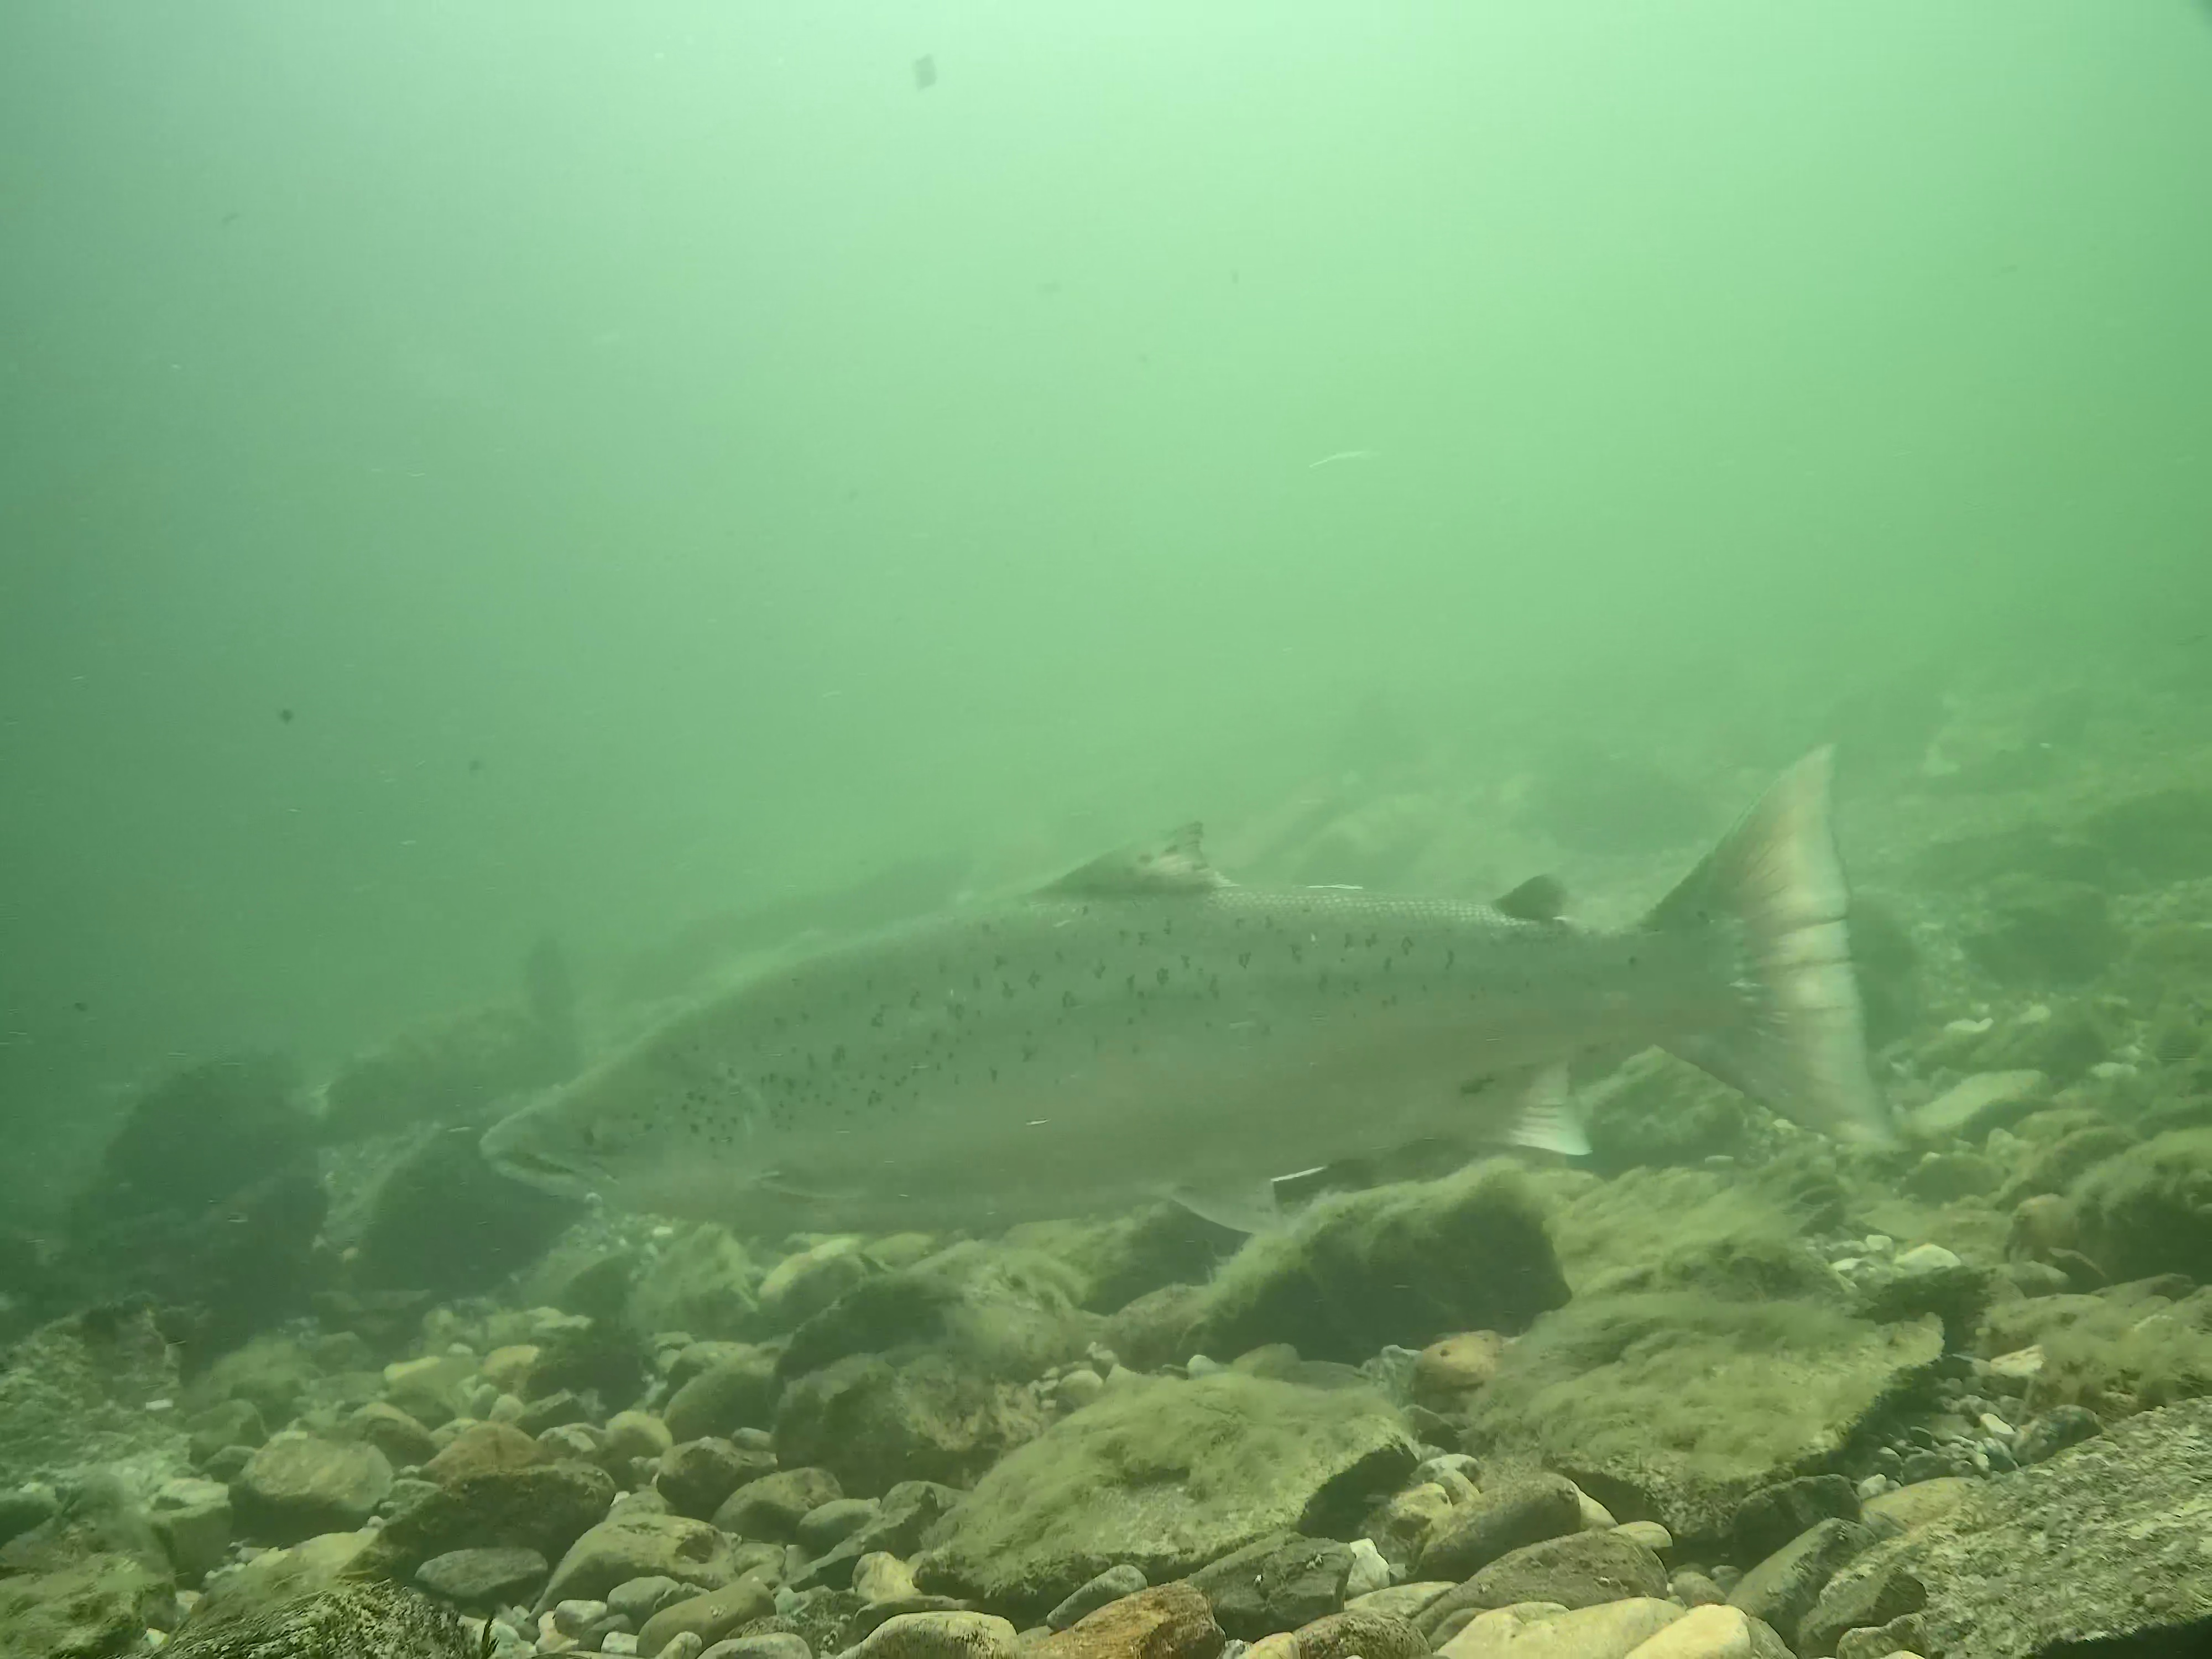salmon: (472, 739, 1916, 1251)
